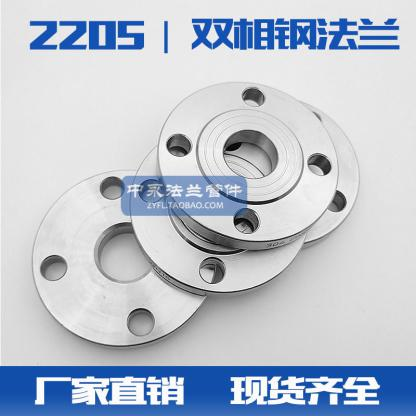FOD: (29, 165, 222, 352), (125, 122, 307, 299), (155, 79, 340, 247)
